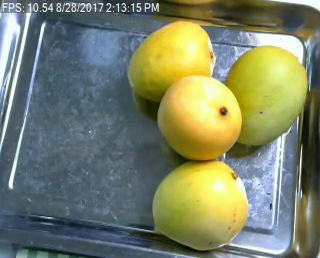Mango: (152, 159, 248, 249), (223, 45, 307, 144), (158, 73, 241, 160), (129, 19, 212, 99)
